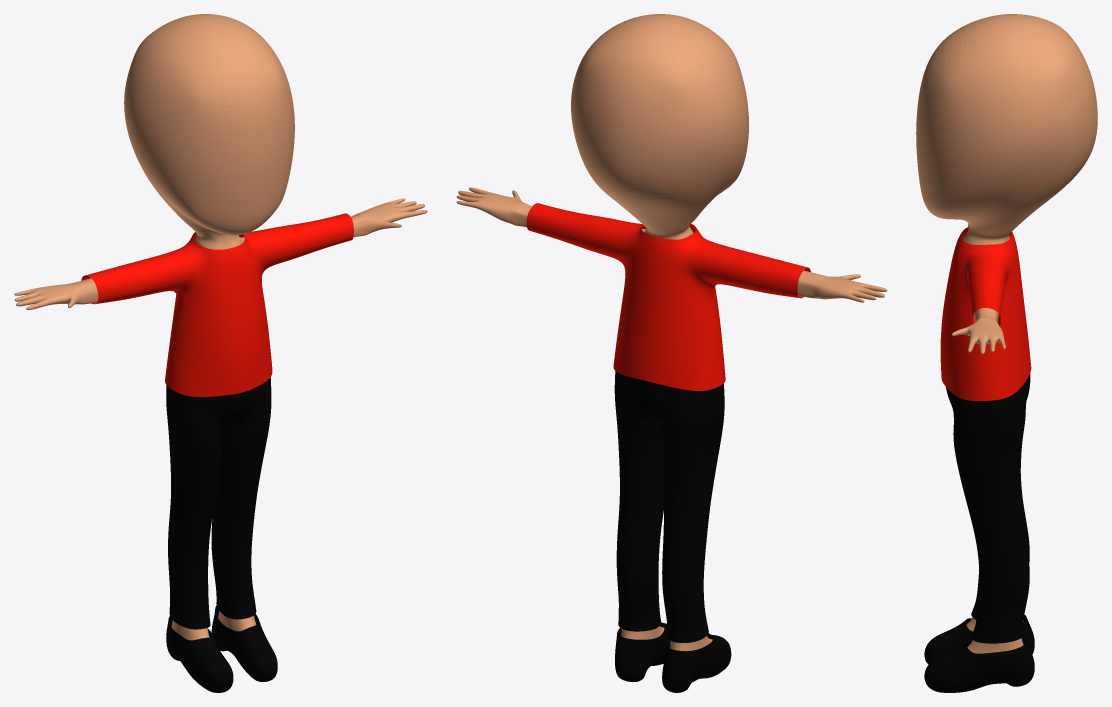
Rendered from It'sMIIsketchfab.fbx.
The picture shows the model from 3 angles, left to right: view 1: azimuth 30°, elevation 25°; view 2: azimuth 150°, elevation 25°; view 3: azimuth 270°, elevation 25°; orthographic projection. The views are drawn at different scales.
Visible parts, largest first — view 1: Perso.003, Pant.002, veste.002, botte.002; view 2: Perso.003, Pant.002, veste.002, botte.002; view 3: Perso.003, Pant.002, veste.002, botte.002.
Boxes of the visible parts, x1,y1,x2,y2 form: Perso.003: (14,14,427,640); Pant.002: (166,377,271,629); veste.002: (81,213,353,397); botte.002: (166,605,277,692); Perso.003: (456,14,887,651); Pant.002: (614,371,724,642); veste.002: (526,203,810,390); botte.002: (615,622,731,692); Perso.003: (916,14,1097,653); Pant.002: (946,373,1030,643); veste.002: (940,224,1031,400); botte.002: (924,614,1034,692).
Bounding box in the file's own units: 308 × 460 × 115.
